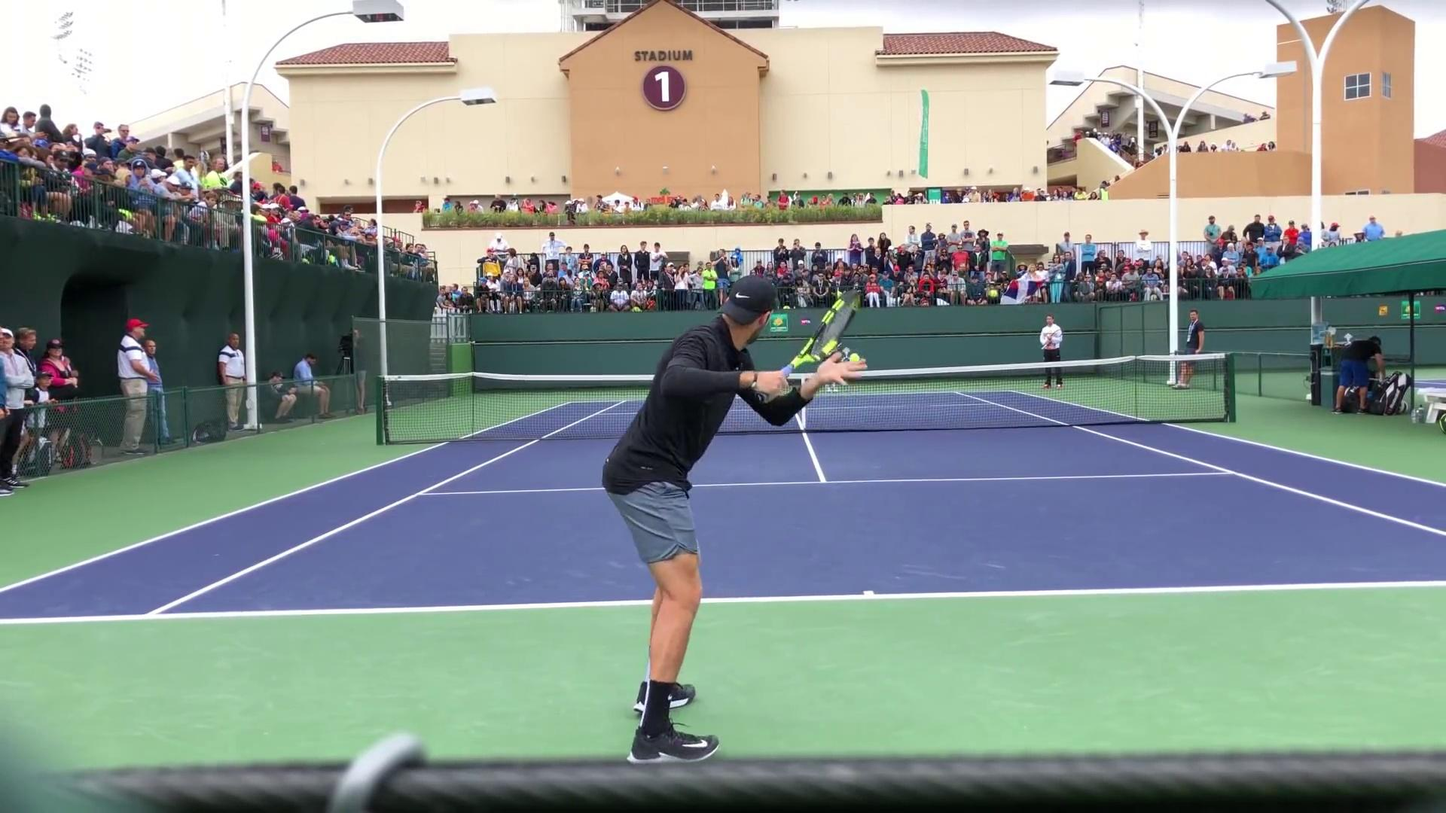ball: (849, 354, 861, 362)
